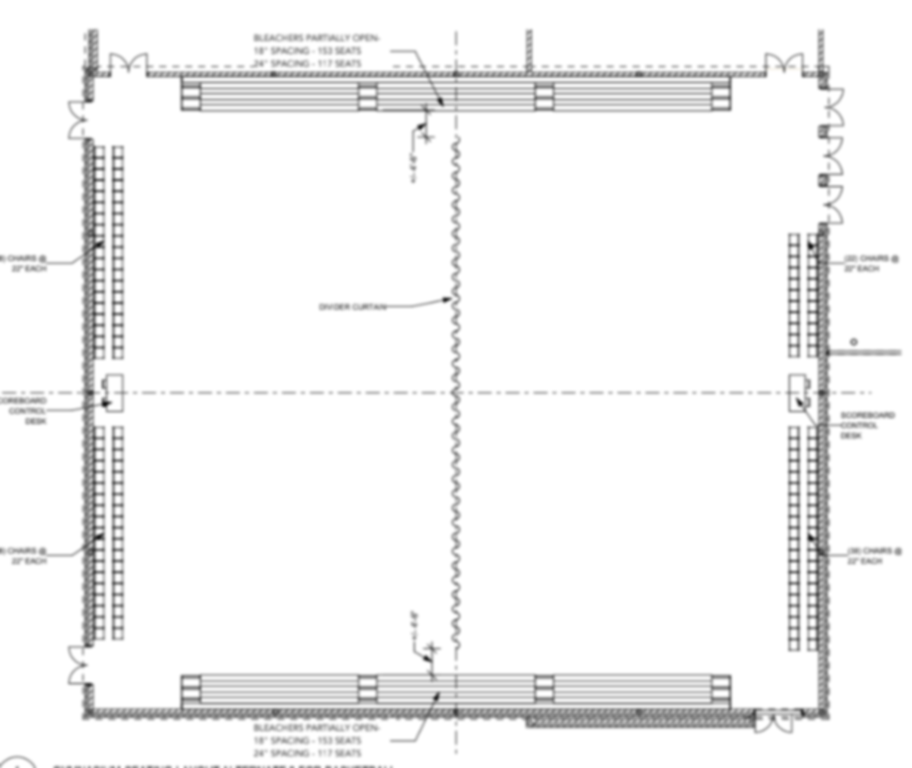double door: (64, 97, 96, 142), (751, 707, 798, 737), (104, 51, 152, 78), (762, 51, 806, 78), (818, 136, 846, 178), (820, 87, 850, 126), (822, 185, 847, 226), (66, 643, 89, 687)
